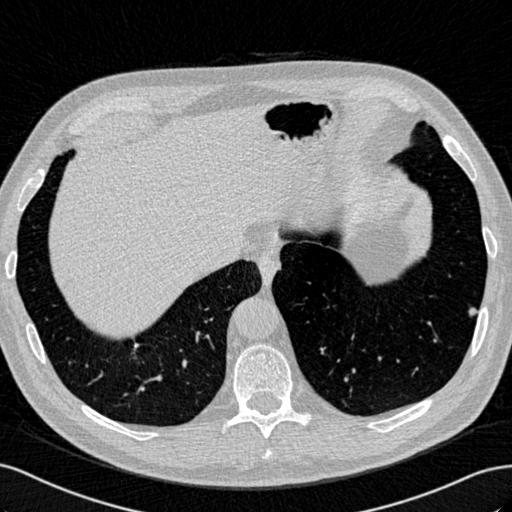nodule: (467, 306, 479, 318)
